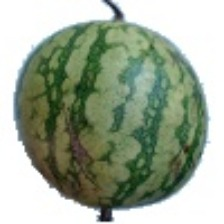watermelon: (3, 38, 195, 208)
